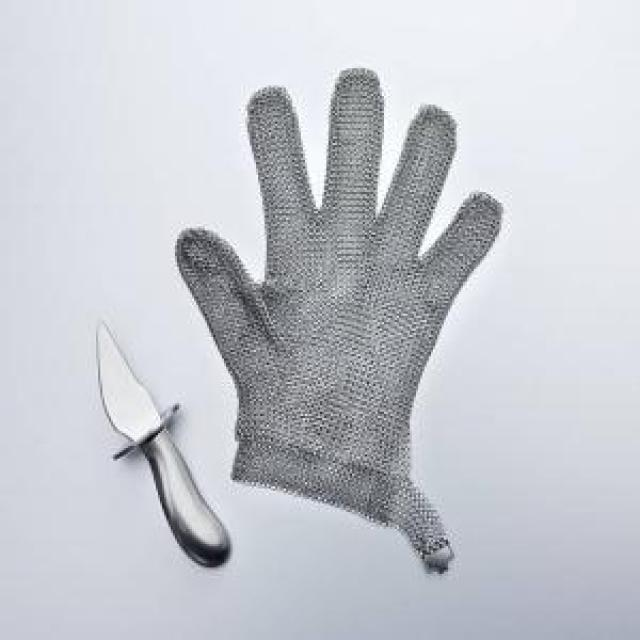knife: (96, 314, 231, 570)
